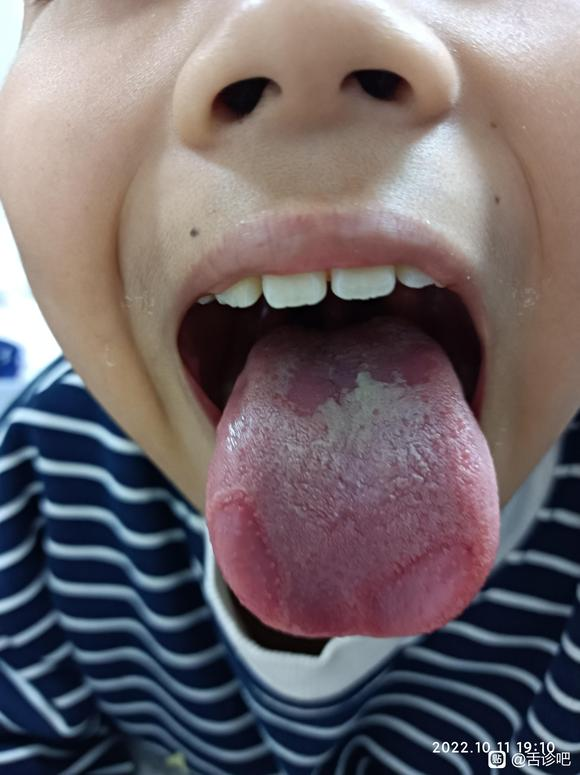baitaishe: (204, 315, 500, 638)
botaishe: (274, 336, 444, 421), (206, 482, 293, 628), (373, 533, 477, 632)
hongshe: (204, 315, 500, 638)
